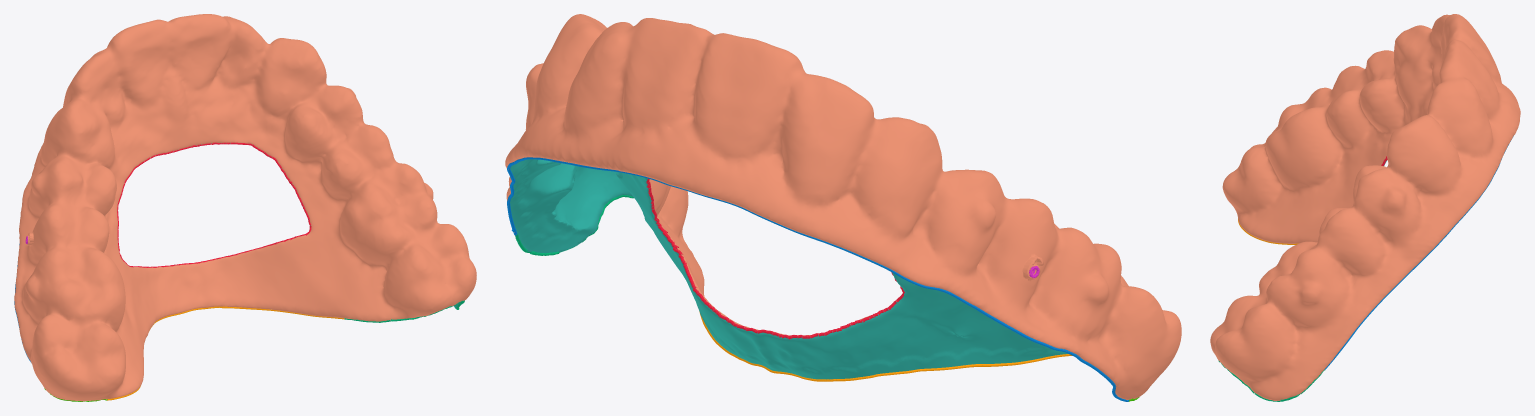
The model's file is two-contour-face-regions.glb.
The picture shows the model from 3 angles, left to right: view 1: azimuth 30°, elevation 25°; view 2: azimuth 150°, elevation 25°; view 3: azimuth 270°, elevation 25°; orthographic projection. The views are drawn at different scales.
Parts seen in each view (by area): view 1: CORAL: topological face region 2 — unclassified, RED: central projected opening silhouette loop candidate, ORANGE: smaller open partial sharp edge candidate; view 2: CORAL: topological face region 2 — unclassified, TEAL: topological face region 1 — unclassified, BLUE: large open full-arch sharp edge candidate, RED: central projected opening silhouette loop candidate, ORANGE: smaller open partial sharp edge candidate; view 3: CORAL: topological face region 2 — unclassified, BLUE: large open full-arch sharp edge candidate.
Boxes of the visible parts, x1,y1,x2,y2 form: CORAL: topological face region 2 — unclassified: (14, 14, 476, 401); RED: central projected opening silhouette loop candidate: (117, 142, 311, 267); ORANGE: smaller open partial sharp edge candidate: (106, 306, 344, 400); CORAL: topological face region 2 — unclassified: (505, 14, 1181, 399); TEAL: topological face region 1 — unclassified: (510, 159, 1067, 379); BLUE: large open full-arch sharp edge candidate: (507, 157, 1129, 401); RED: central projected opening silhouette loop candidate: (646, 178, 904, 339); ORANGE: smaller open partial sharp edge candidate: (699, 311, 1072, 381); CORAL: topological face region 2 — unclassified: (1210, 14, 1520, 400); BLUE: large open full-arch sharp edge candidate: (1325, 136, 1513, 369).
Size of the model in its own units: 67.79 by 40.7 by 42.41.
